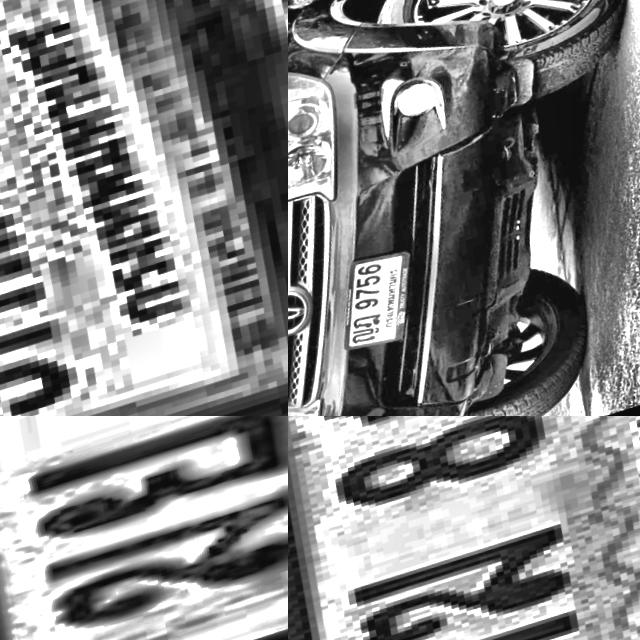license-plate: (0, 0, 288, 416), (288, 416, 640, 640), (0, 416, 288, 640), (348, 259, 412, 357)
